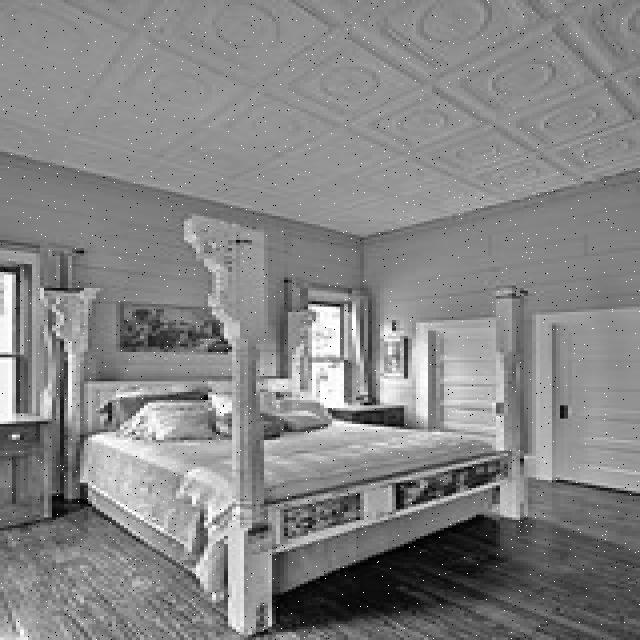bed: (61, 350, 556, 605)
